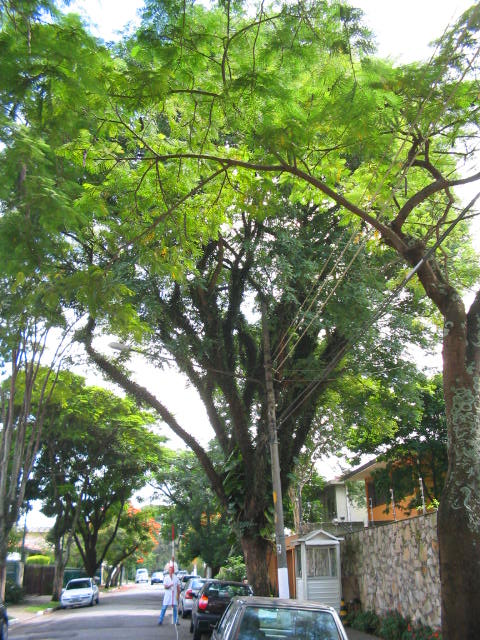stem: (236, 541, 276, 630)
stick: (165, 523, 179, 625)
tree: (86, 218, 401, 633)
